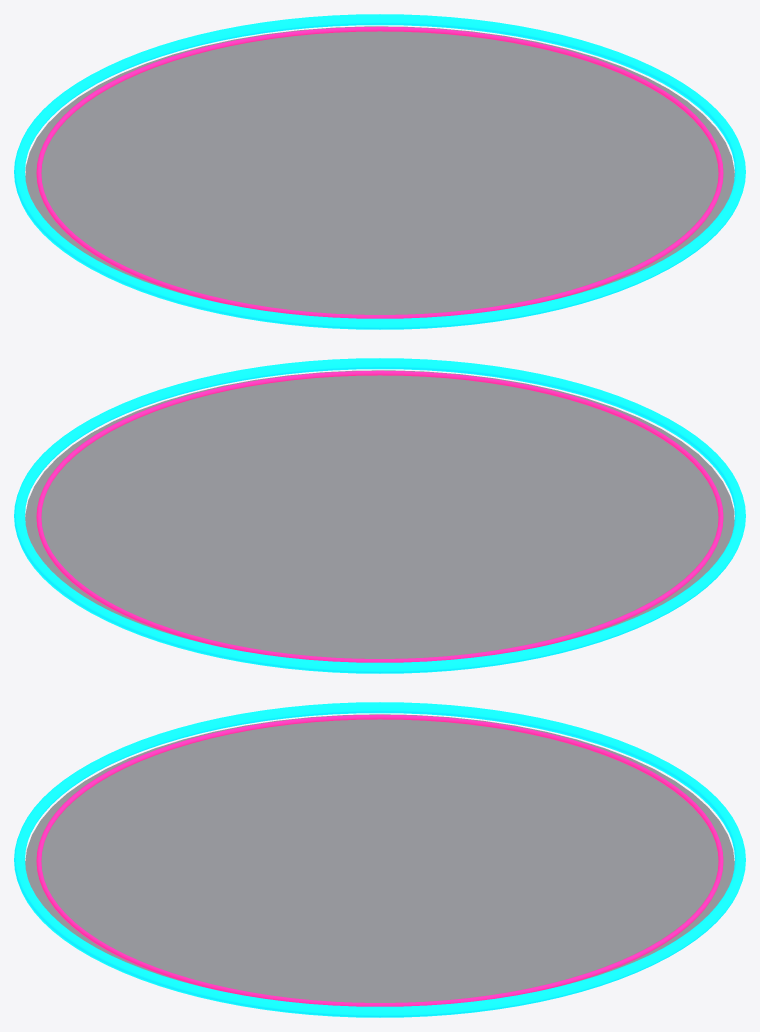
The model's file is bonus_ring.glb.
3 views of the same model, one above another, from view 1: azimuth 30°, elevation 25°; view 2: azimuth 150°, elevation 25°; view 3: azimuth 270°, elevation 25° (orthographic).
Visible parts, largest first — view 1: RingDisc, Ring, RingInner; view 2: RingDisc, Ring, RingInner; view 3: RingDisc, Ring, RingInner.
Part boxes in pixels (<box>): RingDisc: <box>25,26,734,314</box>; Ring: <box>14,14,745,329</box>; RingInner: <box>36,26,723,318</box>; RingDisc: <box>25,370,734,658</box>; Ring: <box>14,358,745,673</box>; RingInner: <box>36,370,723,662</box>; RingDisc: <box>25,714,734,1002</box>; Ring: <box>14,702,745,1017</box>; RingInner: <box>36,714,723,1006</box>.
Bounding box in the file's own units: 0.528 × 0.00761 × 0.528.
